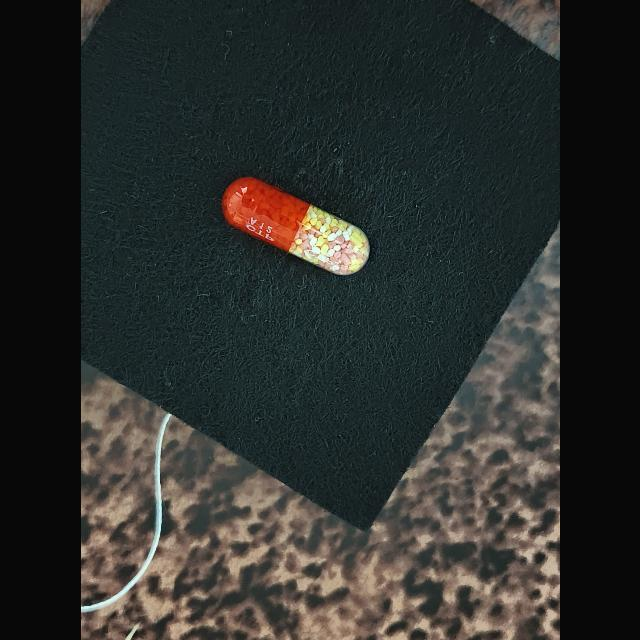Intact Capsule: (221, 177, 369, 276)
